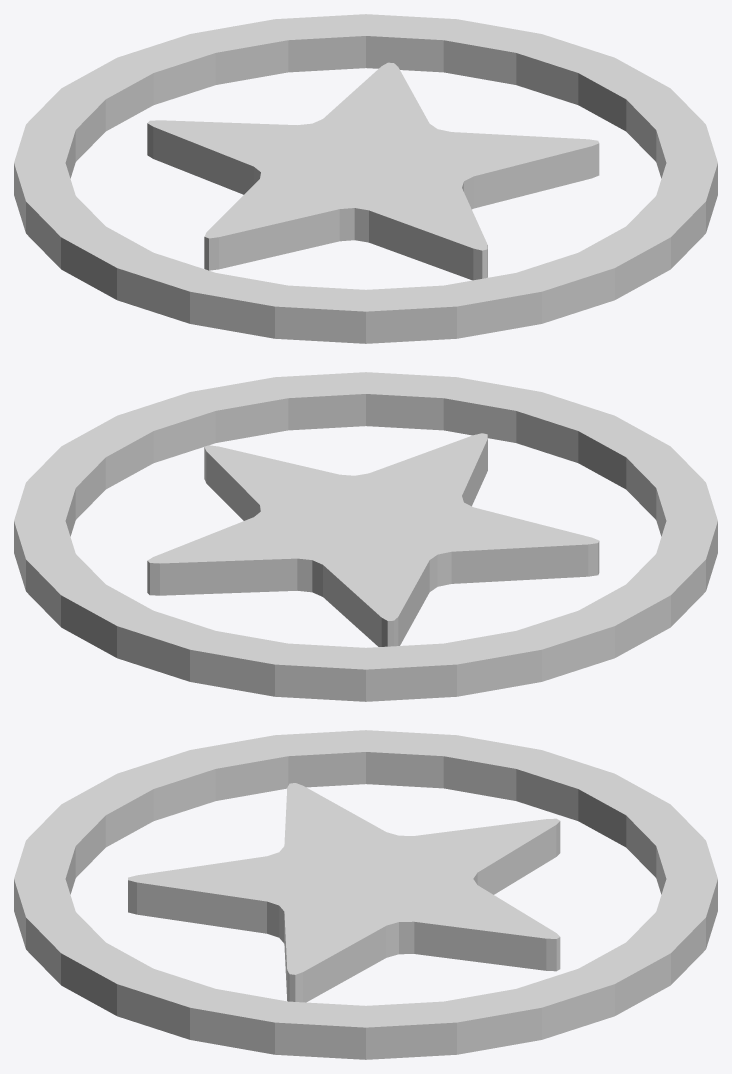
File: Capital_Star_02_3D.fbx
3 renders of one model, top to bottom at view 1: azimuth 30°, elevation 25°; view 2: azimuth 150°, elevation 25°; view 3: azimuth 270°, elevation 25°, orthographic.
Parts seen in each view (by area): view 1: Capital_Star_02_3D; view 2: Capital_Star_02_3D; view 3: Capital_Star_02_3D.
Boxes of the visible parts, x1,y1,x2,y2 form: Capital_Star_02_3D: (14,14,717,343); Capital_Star_02_3D: (14,372,717,701); Capital_Star_02_3D: (14,730,717,1059).
Bounding box in the file's own units: 198 × 10 × 198.
